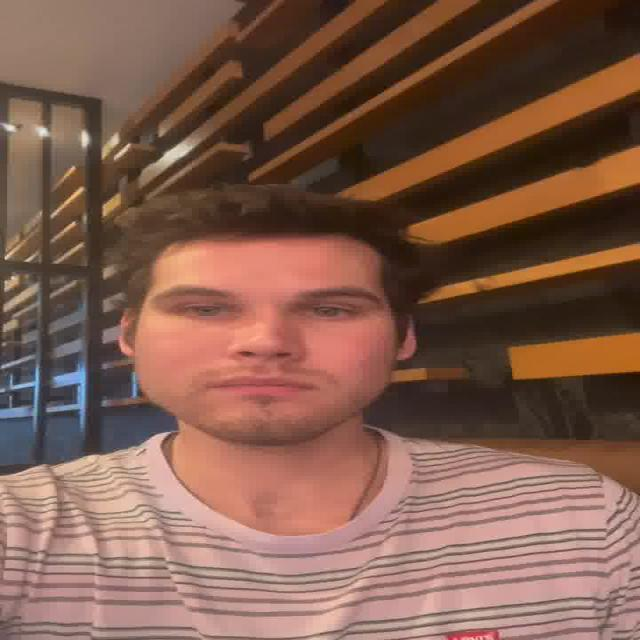earlobe: (395, 310, 416, 362), (118, 309, 139, 358)
